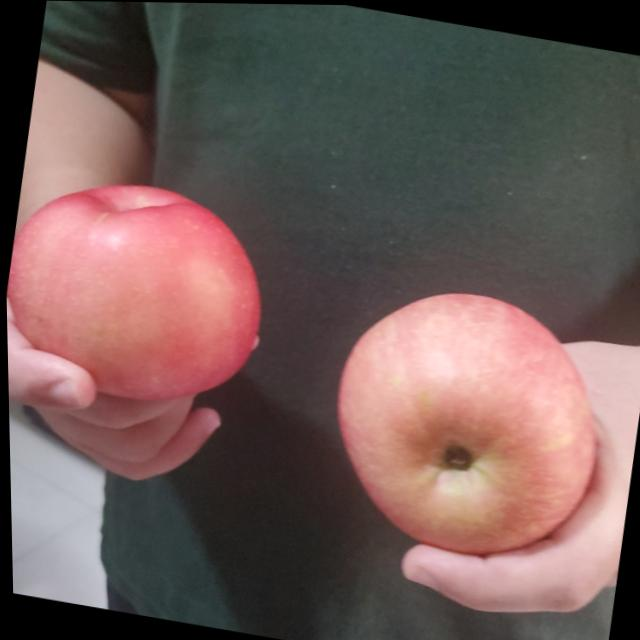apple: (312, 276, 615, 573), (3, 163, 279, 417)
